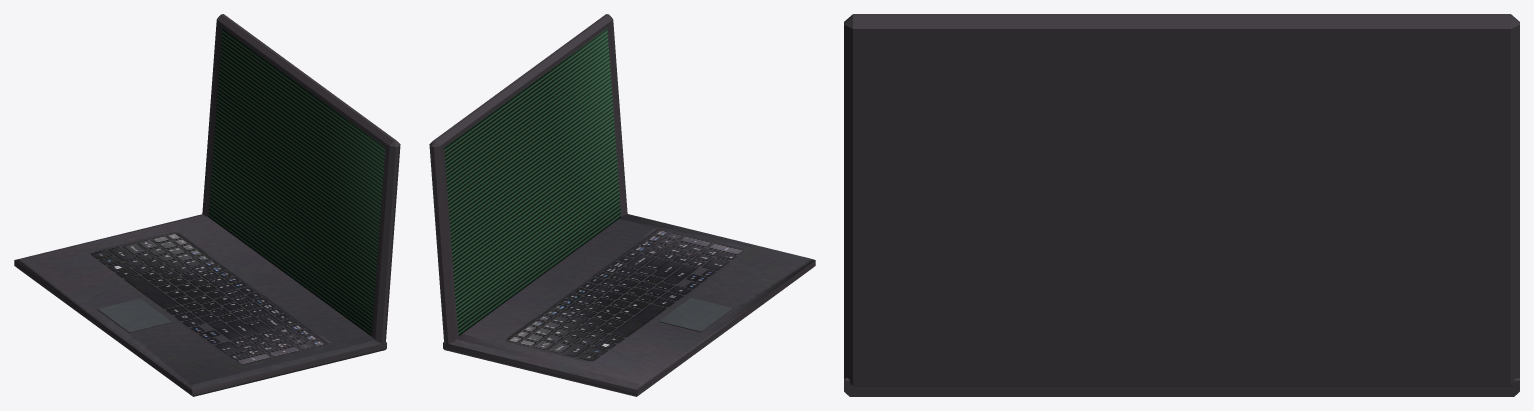
File: Laptop-final.FBX
The picture shows the model from 3 angles, left to right: view 1: azimuth 30°, elevation 25°; view 2: azimuth 150°, elevation 25°; view 3: azimuth 270°, elevation 25°; orthographic projection. The views are drawn at different scales.
Visible parts, largest first — view 1: Top, Laptop; view 2: Top, Laptop; view 3: Top, Laptop.
Part boxes in pixels (x1,y1,x2,y2): Top: (202, 14, 400, 345); Laptop: (14, 214, 386, 396); Top: (429, 14, 627, 343); Laptop: (443, 214, 815, 396); Top: (844, 14, 1519, 386); Laptop: (844, 378, 1519, 396).
Bounding box in the file's own units: 7.66 × 7.16 × 11.2.
2 materials, 2 textured.
